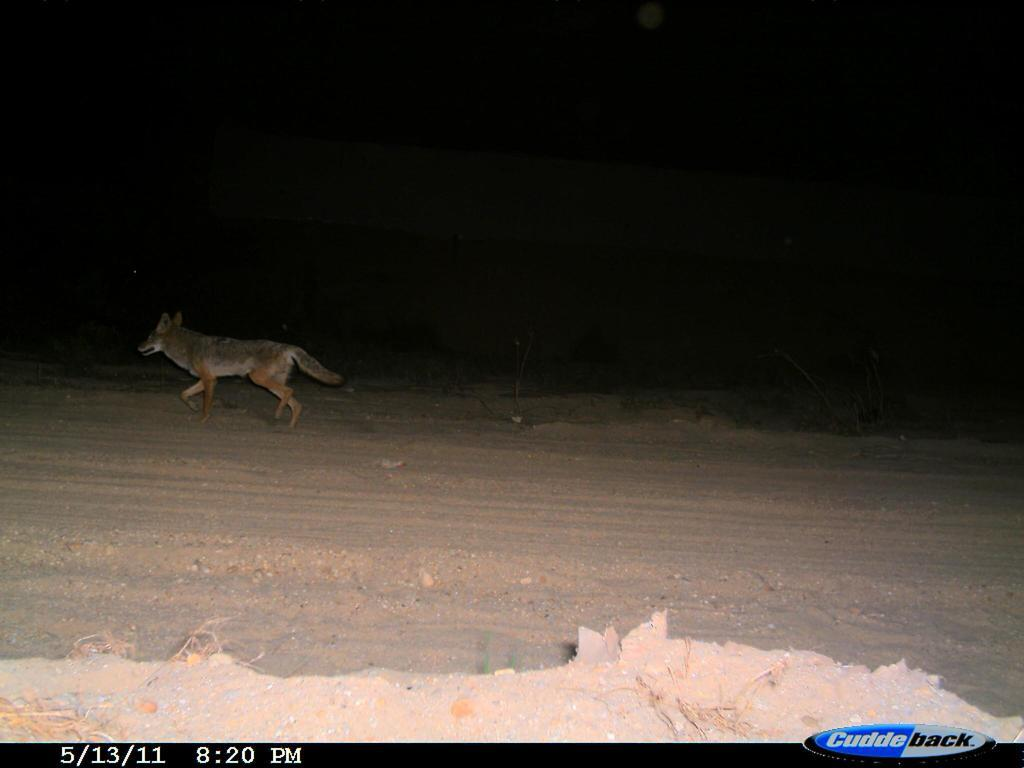coyote: (135, 308, 349, 434)
